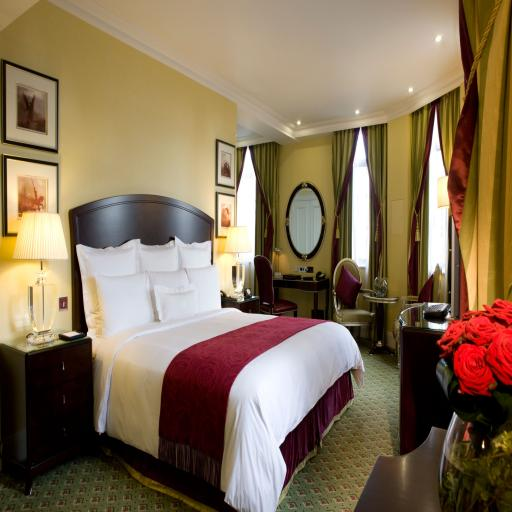bed: (68, 194, 364, 512)
